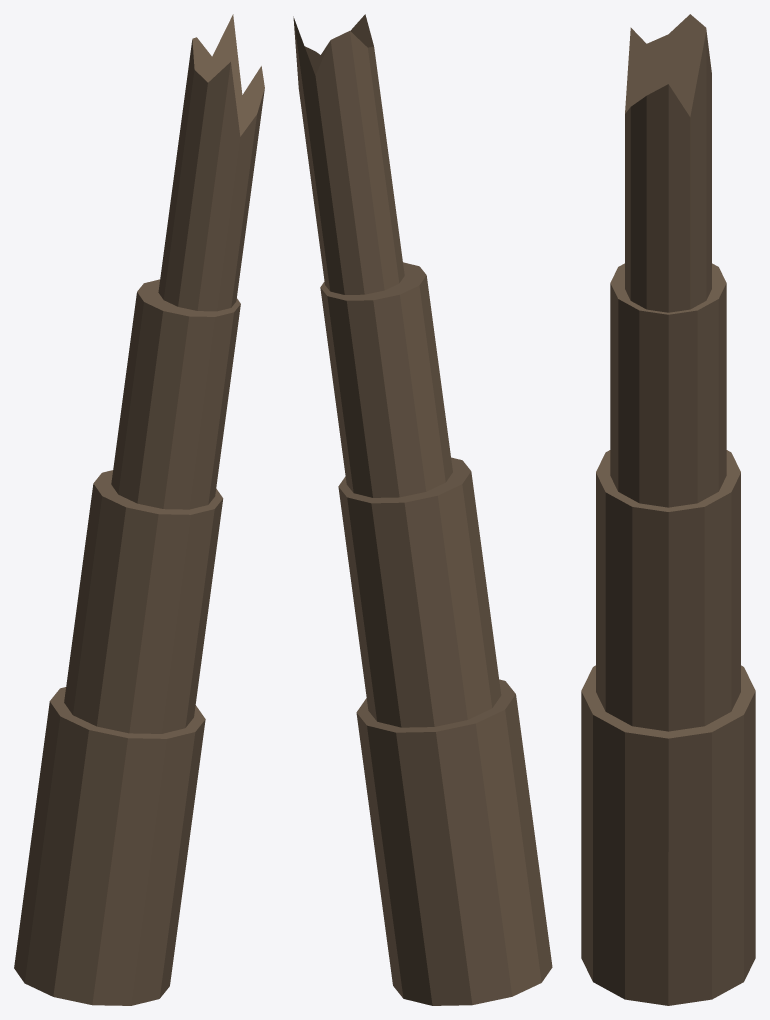
3 renders of one model, left to right at view 1: azimuth 30°, elevation 25°; view 2: azimuth 150°, elevation 25°; view 3: azimuth 270°, elevation 25°, orthographic. The views are drawn at different scales.
Parts seen in each view (by area): view 1: DeadTrunk; view 2: DeadTrunk; view 3: DeadTrunk.
Boxes of the visible parts, <box> form: DeadTrunk: <box>14,14,264,1005</box>; DeadTrunk: <box>293,14,552,1005</box>; DeadTrunk: <box>581,14,755,1005</box>.
Bounding box in the file's own units: 209 × 777 × 120.
